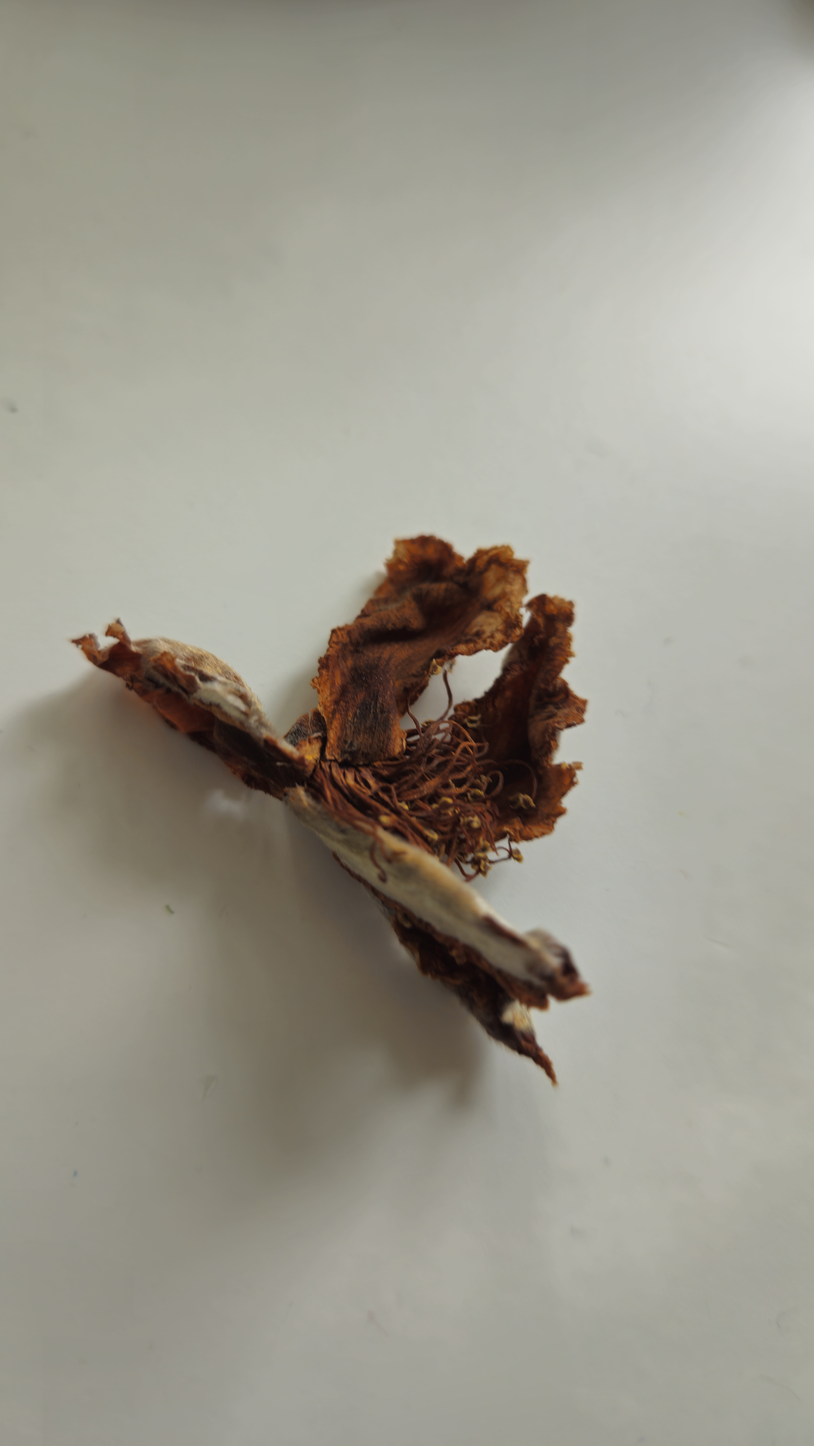organic: (74, 536, 587, 1081)
